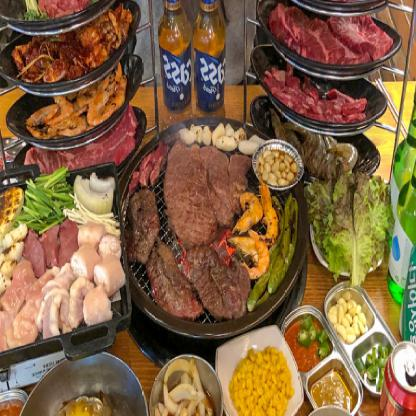Carne: (164, 136, 237, 244), (183, 235, 248, 310), (150, 248, 196, 318), (124, 183, 157, 266)
